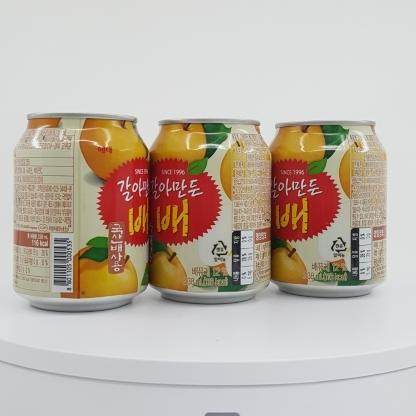-------238ML: (13, 112, 150, 312), (147, 118, 272, 304), (265, 120, 387, 298)
